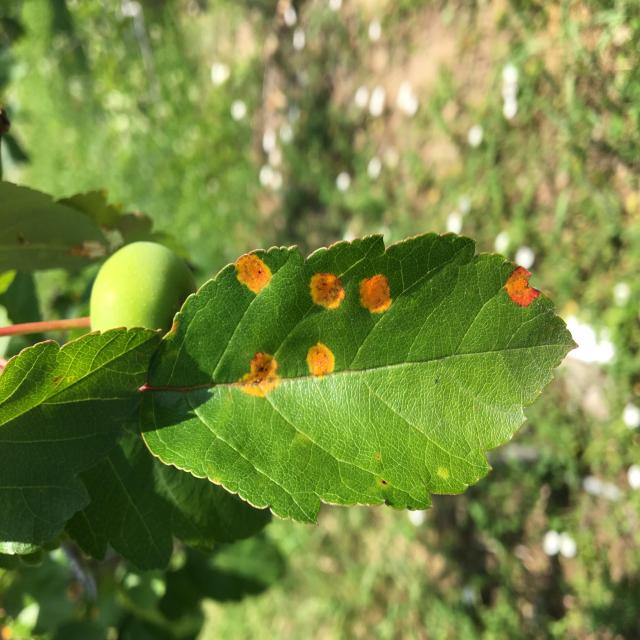Rust: (221, 238, 280, 316), (497, 237, 538, 327), (233, 342, 280, 418), (301, 327, 339, 406), (306, 252, 348, 322), (354, 266, 394, 330)
